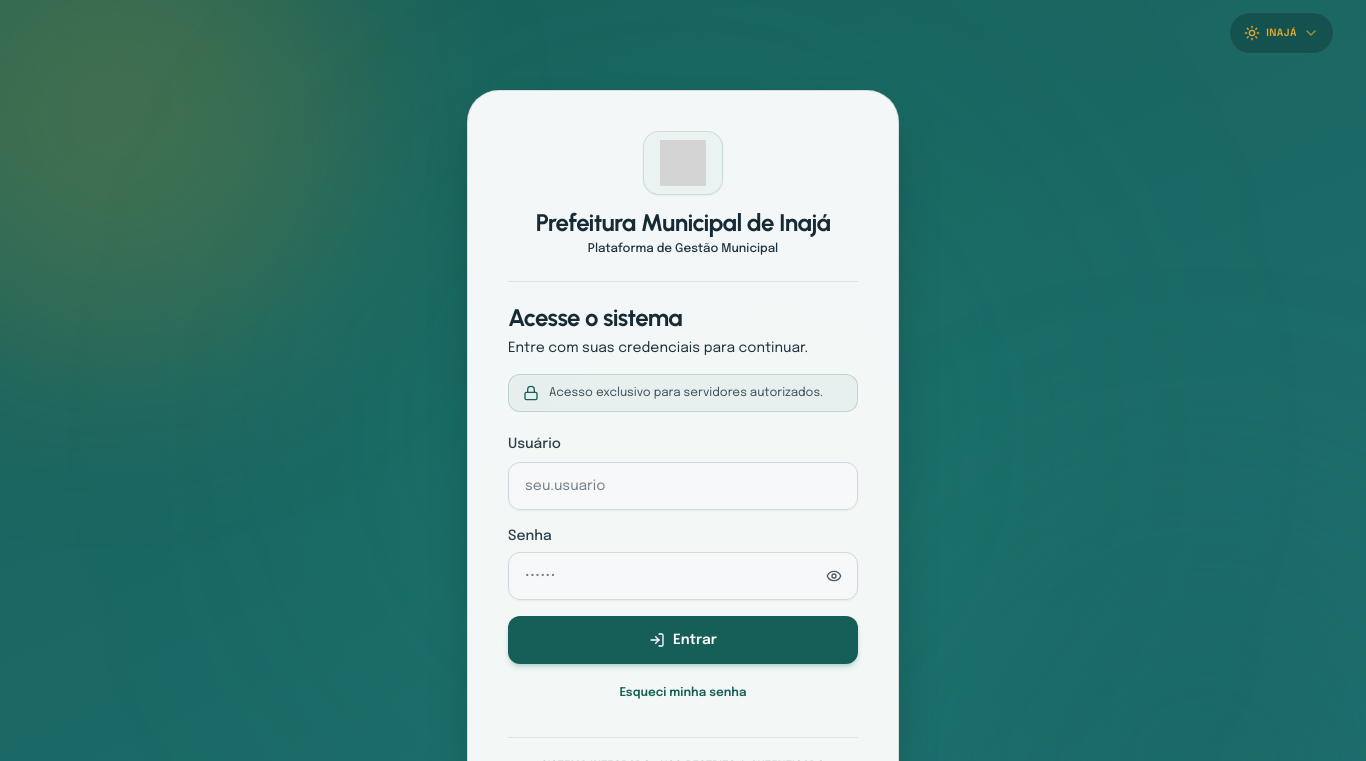
it: Página de Login › valida formulário quando campos estão vazios
Click the button "Entrar" at (683, 640), box [508,616,858,664]
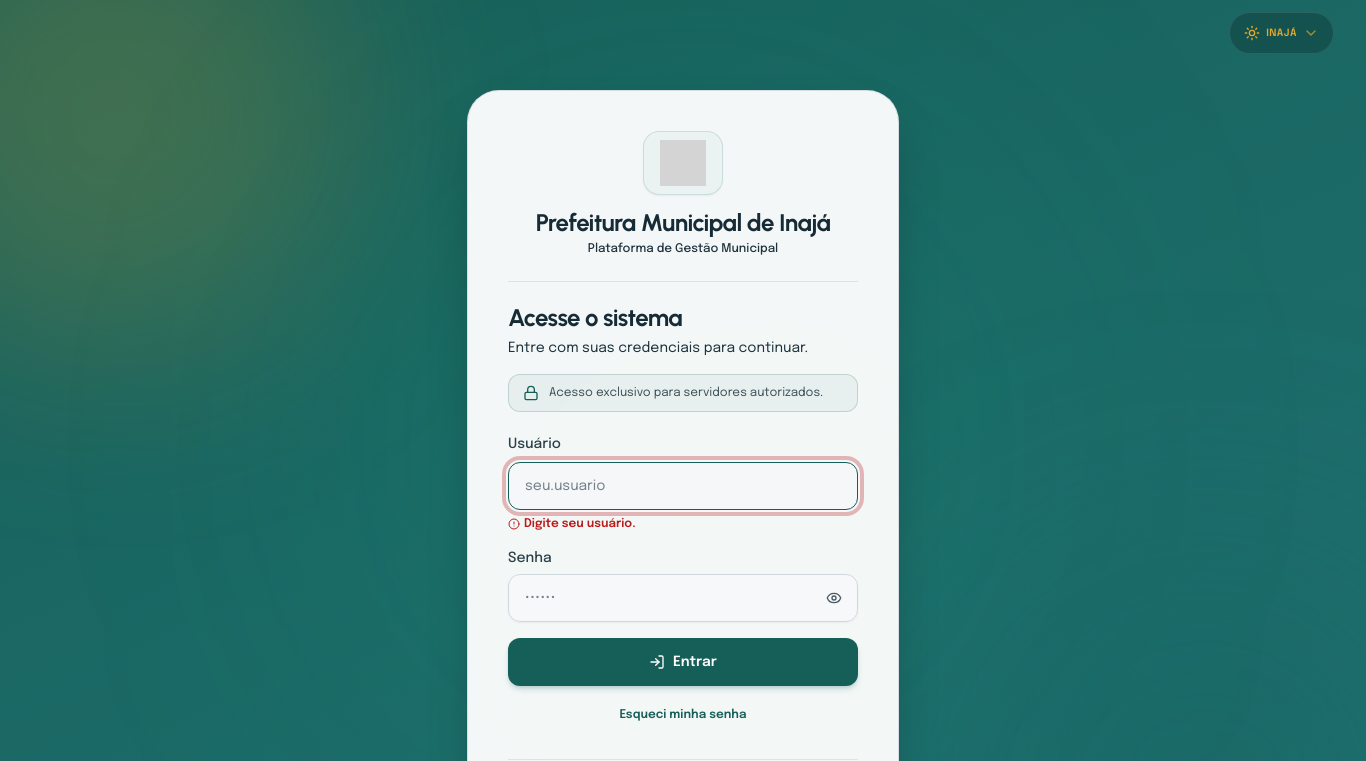
Expected: the text "Digite seu usuário." is shown, [508,518,636,530]
